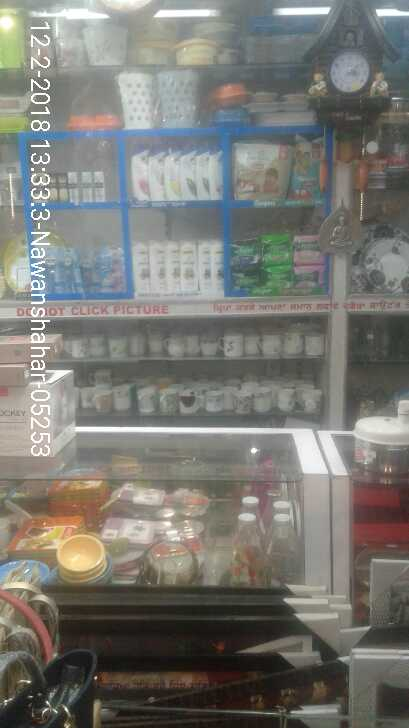venus: (51, 250, 84, 295), (91, 246, 122, 293)
